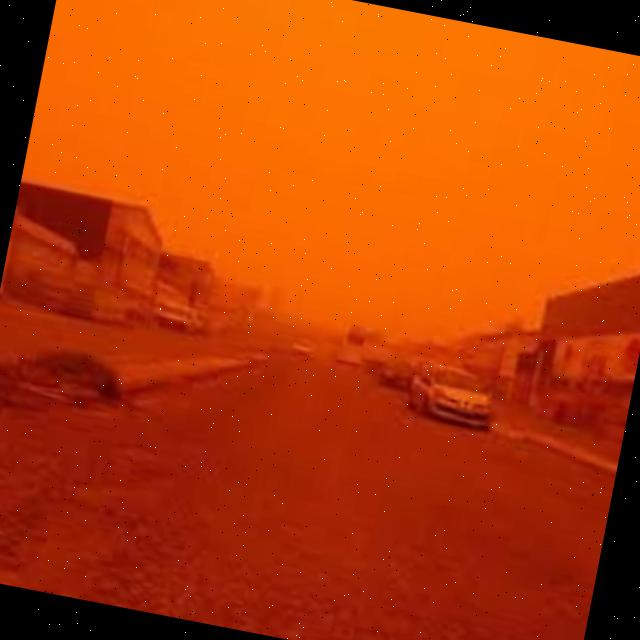car: (407, 371, 495, 428), (378, 358, 417, 393), (157, 298, 196, 330), (292, 332, 317, 360)
truck: (336, 319, 369, 370)
